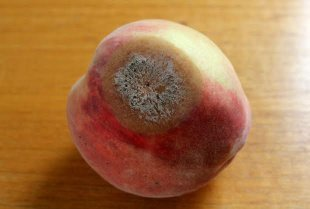peach: (67, 19, 250, 198)
rotten: (101, 37, 203, 131)
